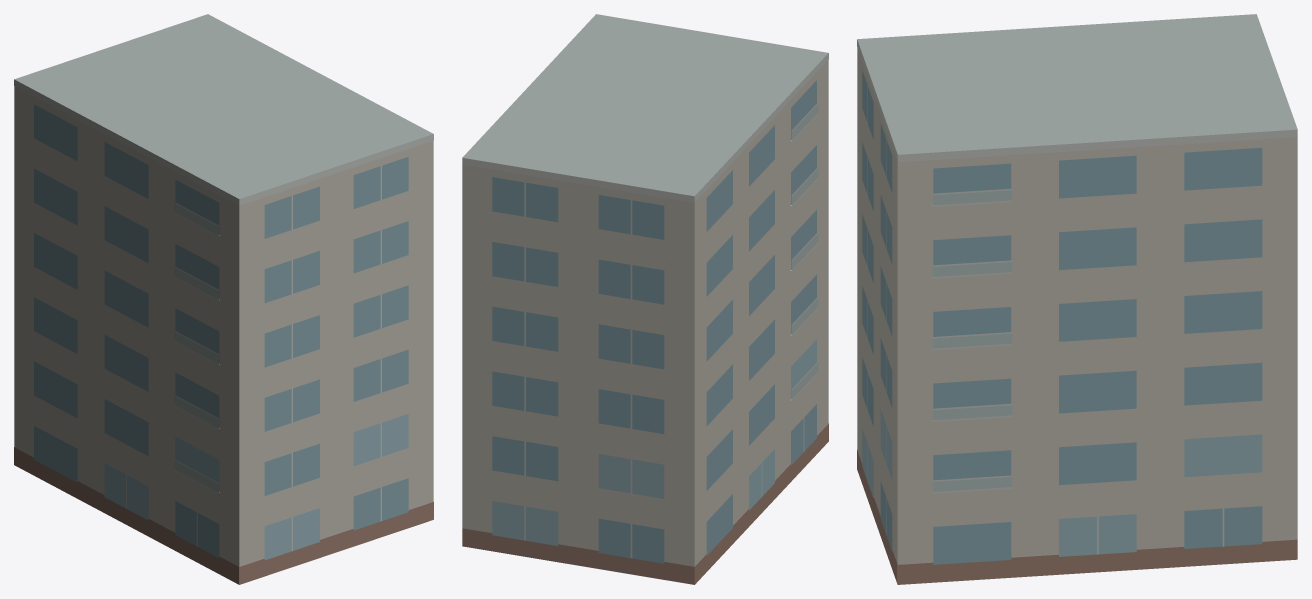
Rendered from survey-upis-32698543.glb.
3 views of the same model, side by side, from view 1: azimuth 30°, elevation 25°; view 2: azimuth 150°, elevation 25°; view 3: azimuth 270°, elevation 25° (orthographic). The views are drawn at different scales.
Visible parts, largest first — view 1: survey-upis-32698543.tmp; view 2: survey-upis-32698543.tmp; view 3: survey-upis-32698543.tmp.
Part boxes in pixels (x1=…): survey-upis-32698543.tmp: x1=14, y1=14, x2=433, y2=584; survey-upis-32698543.tmp: x1=462, y1=14, x2=828, y2=584; survey-upis-32698543.tmp: x1=857, y1=14, x2=1297, y2=584.
Bounding box in the file's own units: 9.91 × 14.1 × 13.1.
